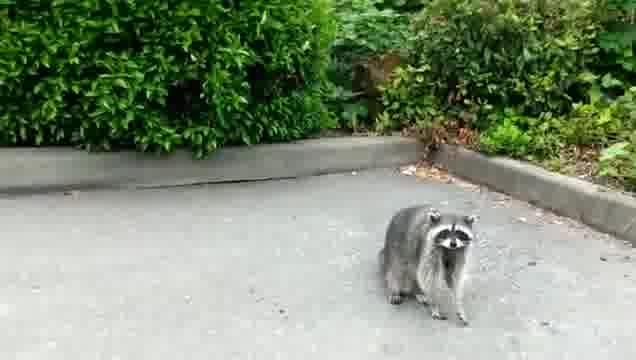raccoon: (379, 200, 480, 332)
